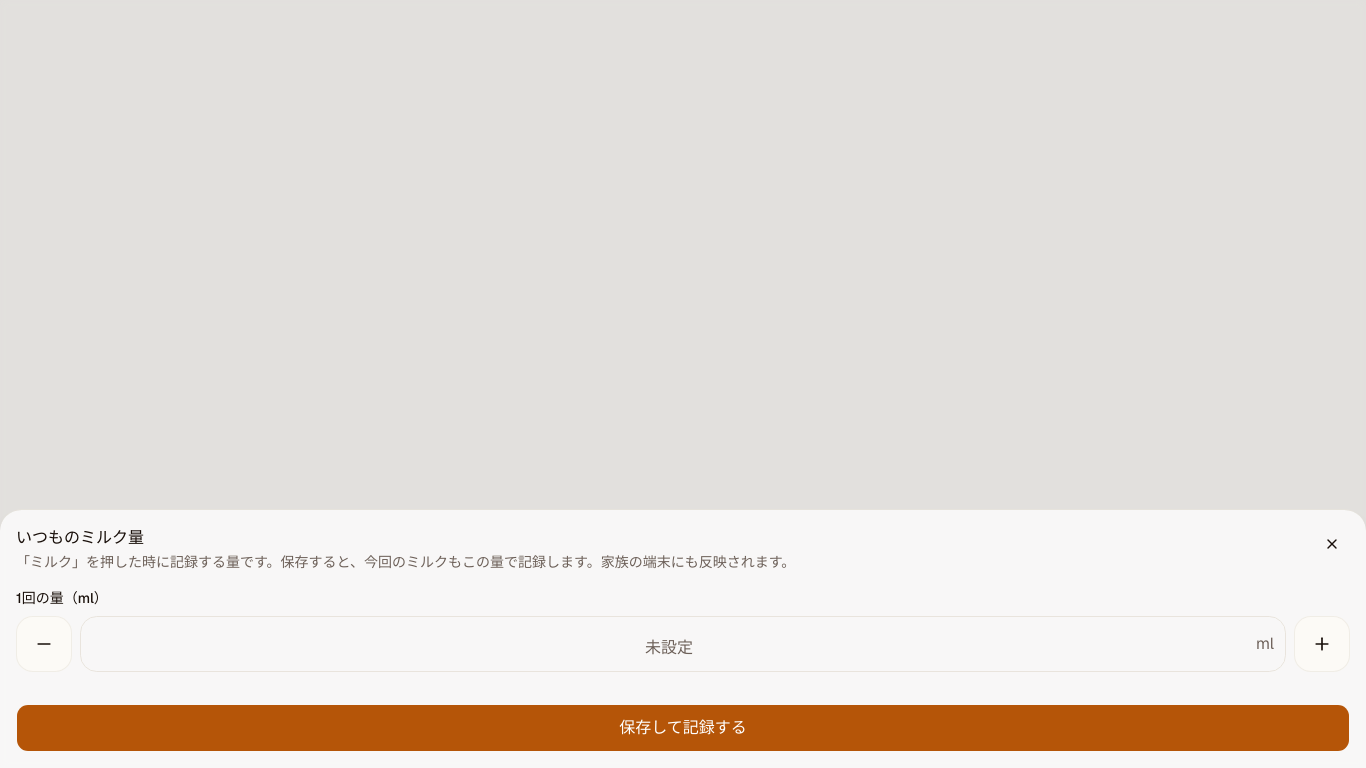
Test: BottleDefaultSheet の衝突と失敗 › 初回の保存と記録の途中で衝突したら、まだ何も記録していないと伝える
Type "120" into the field labelled "1回の量（ml）". click: point(683, 644)
box: [80, 616, 1286, 672]
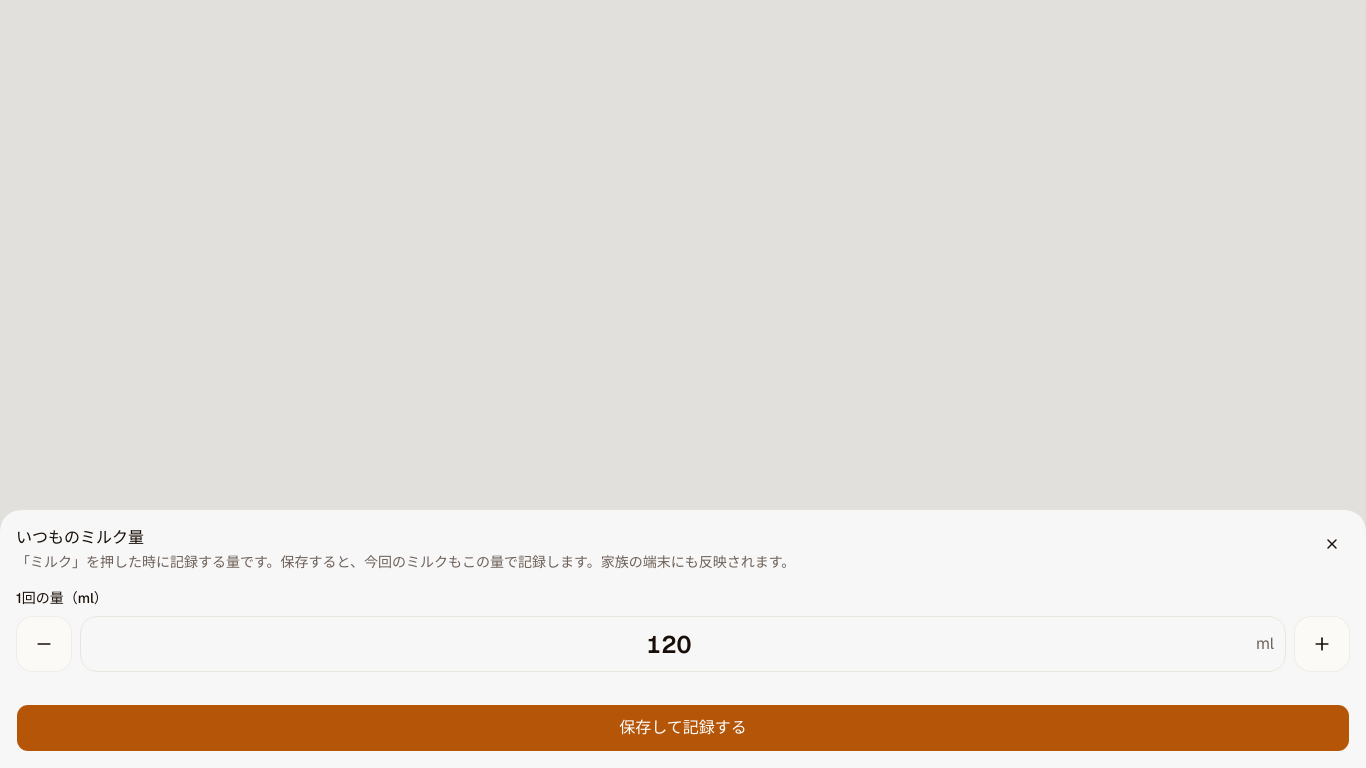
Click the button "保存して記録する". click: point(683, 728)
box: [16, 704, 1350, 752]
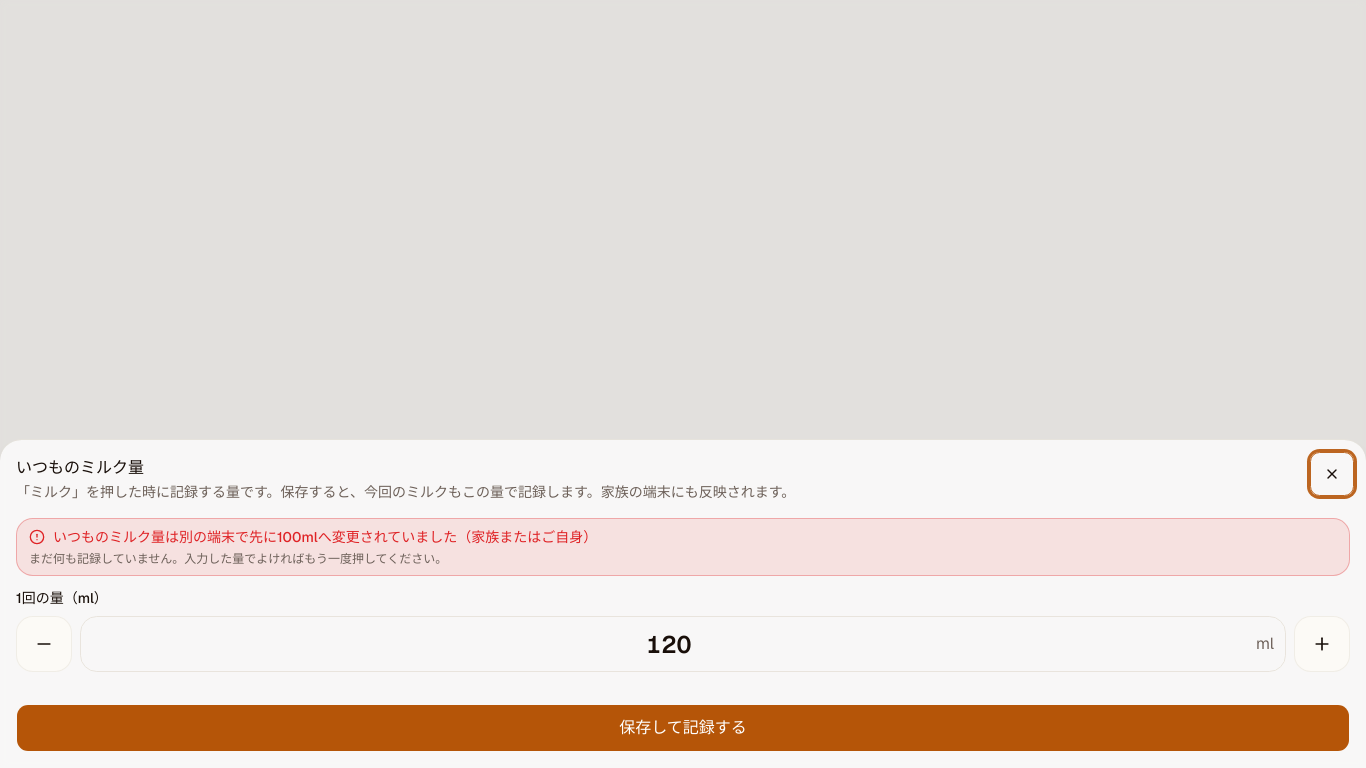
Expected: the text "まだ何も記録していません。入力した量でよければもう一度押してください。" is shown, [29, 551, 447, 567]
